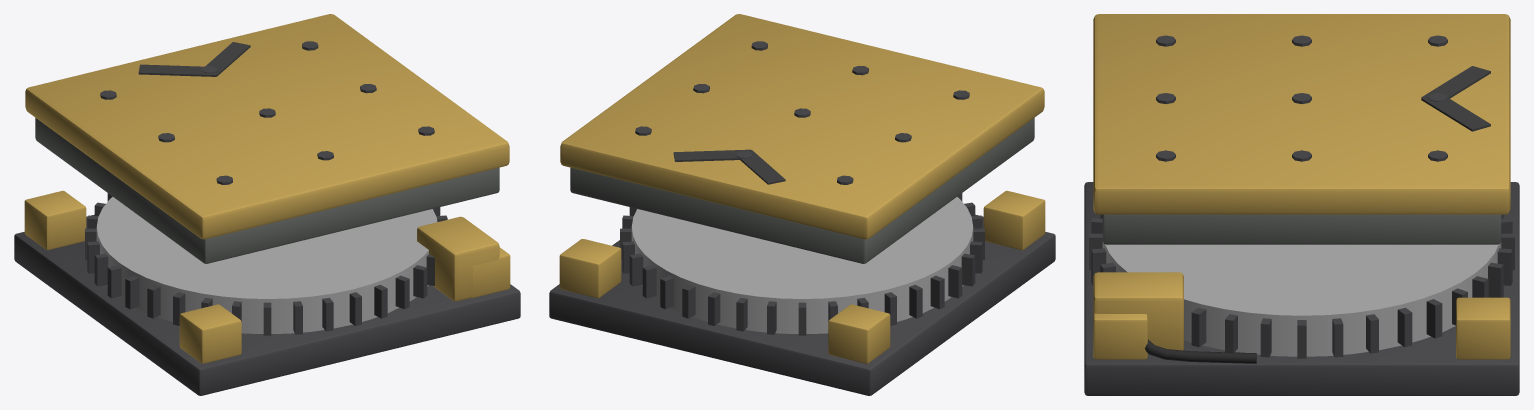
Rendered from turret.glb.
3 renders of one model, left to right at view 1: azimuth 30°, elevation 25°; view 2: azimuth 150°, elevation 25°; view 3: azimuth 270°, elevation 25°, orthographic. The views are drawn at different scales.
Parts seen in each view (by area): view 1: Top, Part; view 2: Top, Part; view 3: Top, Part.
Part boxes in pixels (x1,y1,x2,y2): Top: [25, 14, 509, 263]; Part: [14, 190, 520, 395]; Top: [560, 14, 1044, 263]; Part: [549, 190, 1055, 395]; Top: [1093, 14, 1510, 244]; Part: [1084, 182, 1519, 395].
Size of the model in its own units: 0.9648 by 0.52 by 0.96.
